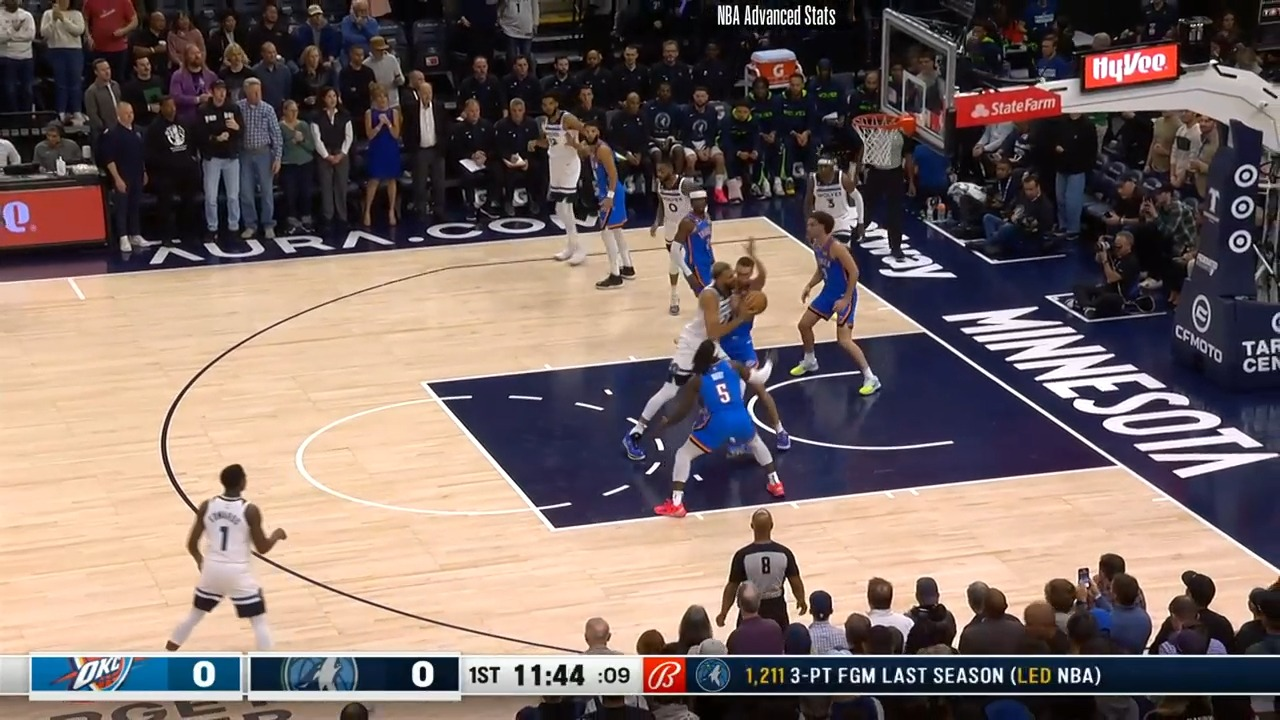net: (852, 108, 922, 168)
player: (630, 258, 761, 460), (657, 336, 788, 522), (159, 462, 285, 652), (794, 208, 881, 396), (720, 235, 791, 452), (538, 93, 601, 268), (572, 123, 631, 294), (647, 156, 704, 316), (668, 184, 722, 309), (804, 156, 866, 263)
referee: (716, 511, 811, 632), (855, 117, 916, 264)
